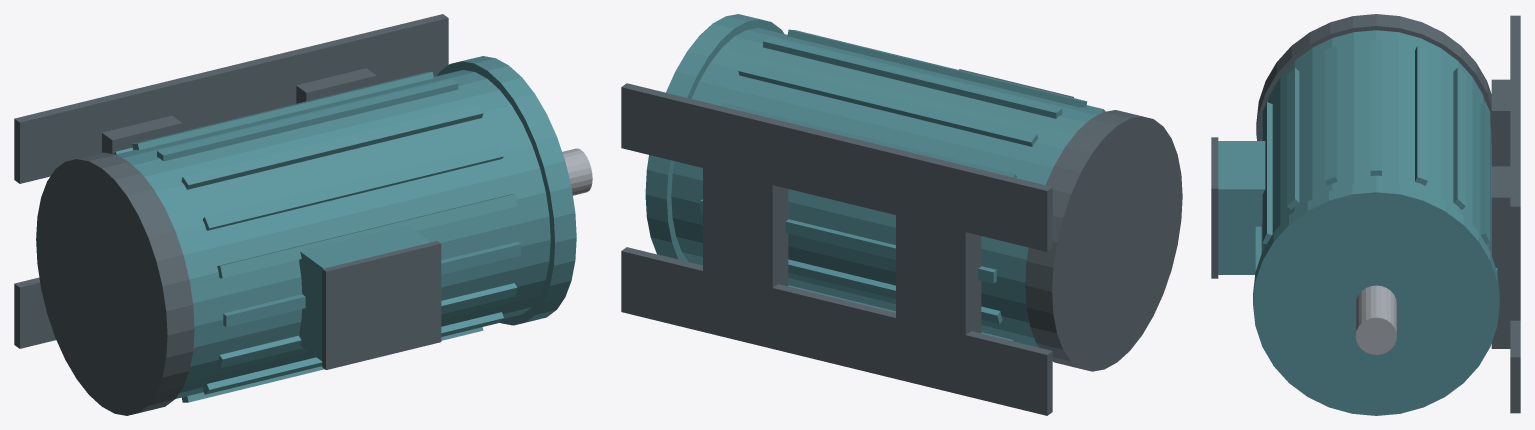
File: ap-motor-iec132.glb
The picture shows the model from 3 angles, left to right: view 1: azimuth 30°, elevation 25°; view 2: azimuth 150°, elevation 25°; view 3: azimuth 270°, elevation 25°; orthographic projection. The views are drawn at different scales.
Parts seen in each view (by area): view 1: motor_part_000, motor_part_001, motor_part_021, motor_part_023, motor_part_026, motor_part_002, motor_part_020, motor_part_006, motor_part_005, motor_part_004, motor_part_007, motor_part_019 (+8 smaller); view 2: motor_part_000, motor_part_001, motor_part_023, motor_part_024, motor_part_022, motor_part_025, motor_part_026, motor_part_027, motor_part_002, motor_part_019, motor_part_004, motor_part_005 (+3 smaller); view 3: motor_part_002, motor_part_000, motor_part_020, motor_part_001, motor_part_025, motor_part_003, motor_part_005, motor_part_019, motor_part_006, motor_part_018, motor_part_022, motor_part_004 (+6 smaller).
Boxes of the visible parts, bbox=[...] form: motor_part_000: bbox=[116, 70, 550, 398]; motor_part_001: bbox=[36, 152, 194, 415]; motor_part_021: bbox=[322, 241, 441, 369]; motor_part_023: bbox=[14, 61, 254, 183]; motor_part_026: bbox=[214, 14, 448, 123]; motor_part_002: bbox=[437, 56, 576, 325]; motor_part_020: bbox=[299, 225, 430, 361]; motor_part_006: bbox=[202, 145, 503, 230]; motor_part_005: bbox=[181, 104, 483, 189]; motor_part_004: bbox=[157, 79, 458, 161]; motor_part_007: bbox=[217, 194, 517, 278]; motor_part_019: bbox=[132, 72, 433, 150]; motor_part_000: bbox=[671, 28, 1102, 347]; motor_part_001: bbox=[1025, 110, 1182, 371]; motor_part_023: bbox=[814, 130, 1052, 251]; motor_part_024: bbox=[814, 294, 1052, 415]; motor_part_022: bbox=[896, 184, 981, 365]; motor_part_025: bbox=[703, 137, 788, 318]; motor_part_026: bbox=[621, 83, 859, 200]; motor_part_027: bbox=[621, 247, 854, 366]; motor_part_002: bbox=[645, 14, 784, 261]; motor_part_019: bbox=[738, 62, 1038, 146]; motor_part_004: bbox=[763, 37, 1062, 118]; motor_part_005: bbox=[787, 29, 1087, 107]; motor_part_002: bbox=[1253, 182, 1499, 415]; motor_part_000: bbox=[1261, 30, 1491, 253]; motor_part_020: bbox=[1218, 141, 1265, 274]; motor_part_001: bbox=[1256, 14, 1491, 140]; motor_part_025: bbox=[1491, 166, 1520, 348]; motor_part_003: bbox=[1355, 285, 1396, 354]; motor_part_005: bbox=[1324, 45, 1337, 185]; motor_part_019: bbox=[1415, 45, 1427, 185]; motor_part_006: bbox=[1287, 68, 1299, 209]; motor_part_018: bbox=[1453, 68, 1465, 209]; motor_part_022: bbox=[1491, 79, 1510, 166]; motor_part_004: bbox=[1370, 39, 1381, 175].
Size of the model in its own units: 0.6242 by 0.2996 by 0.3752.
